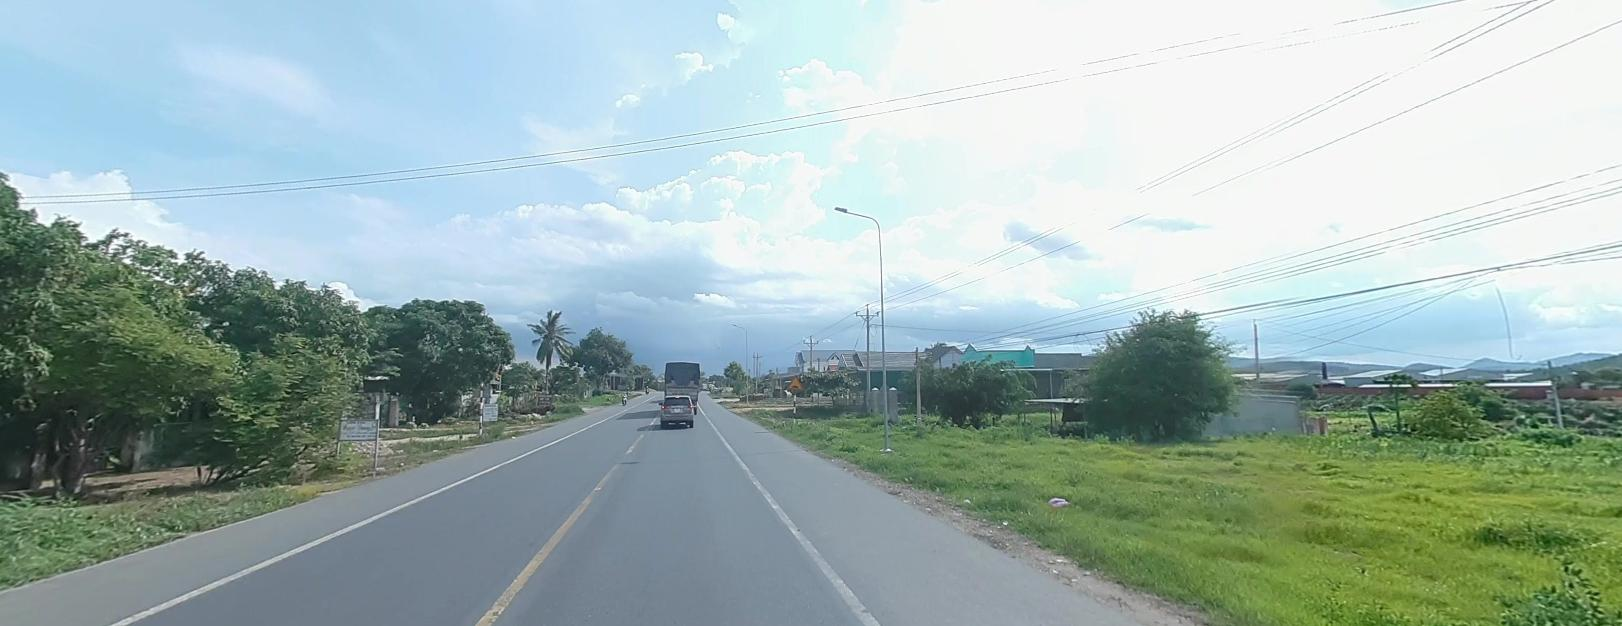Nguy hiem: (786, 374, 803, 390)
